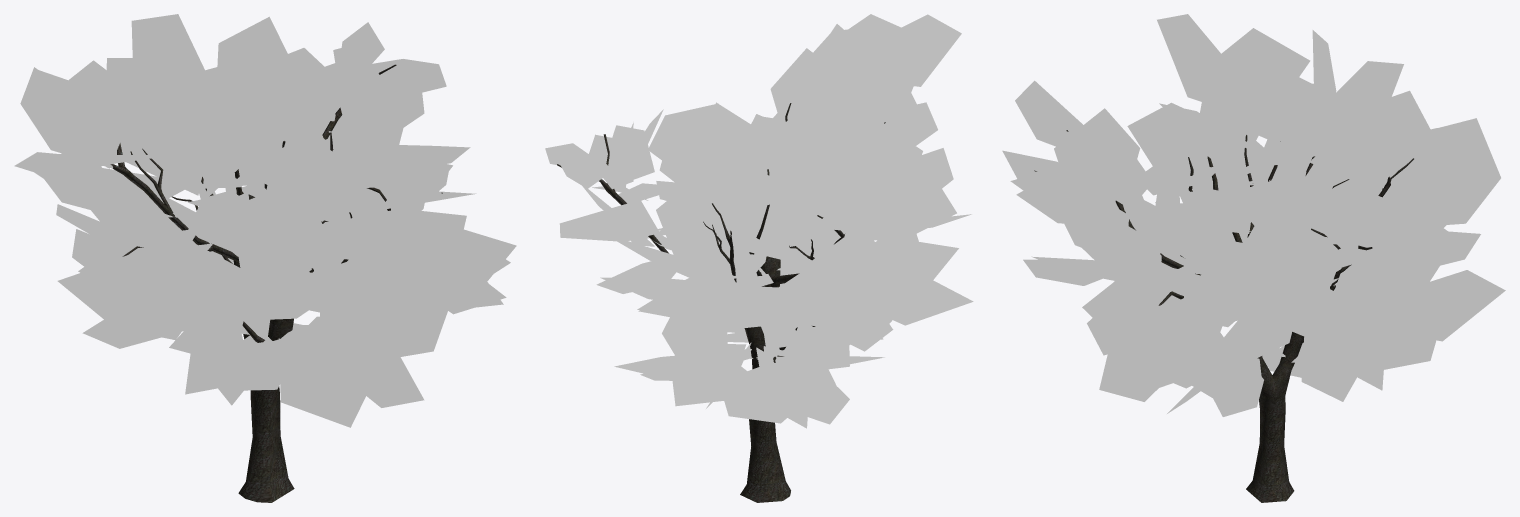
The model's file is large_oak_low1.DAE.
3 renders of one model, left to right at view 1: azimuth 30°, elevation 25°; view 2: azimuth 150°, elevation 25°; view 3: azimuth 270°, elevation 25°, orthographic. The views are drawn at different scales.
Parts seen in each view (by area): view 1: Object374, large_oak_test_01_Bark; view 2: Object374, large_oak_test_01_Bark; view 3: Object374, large_oak_test_01_Bark.
Part boxes in pixels (bbox=[...]): Object374: bbox=[14, 14, 516, 427]; large_oak_test_01_Bark: bbox=[110, 64, 442, 502]; Object374: bbox=[545, 14, 973, 428]; large_oak_test_01_Bark: bbox=[557, 103, 885, 502]; Object374: bbox=[1002, 14, 1505, 416]; large_oak_test_01_Bark: bbox=[1034, 130, 1413, 502].
Size of the model in its own units: 19.59 by 22.43 by 22.8.
